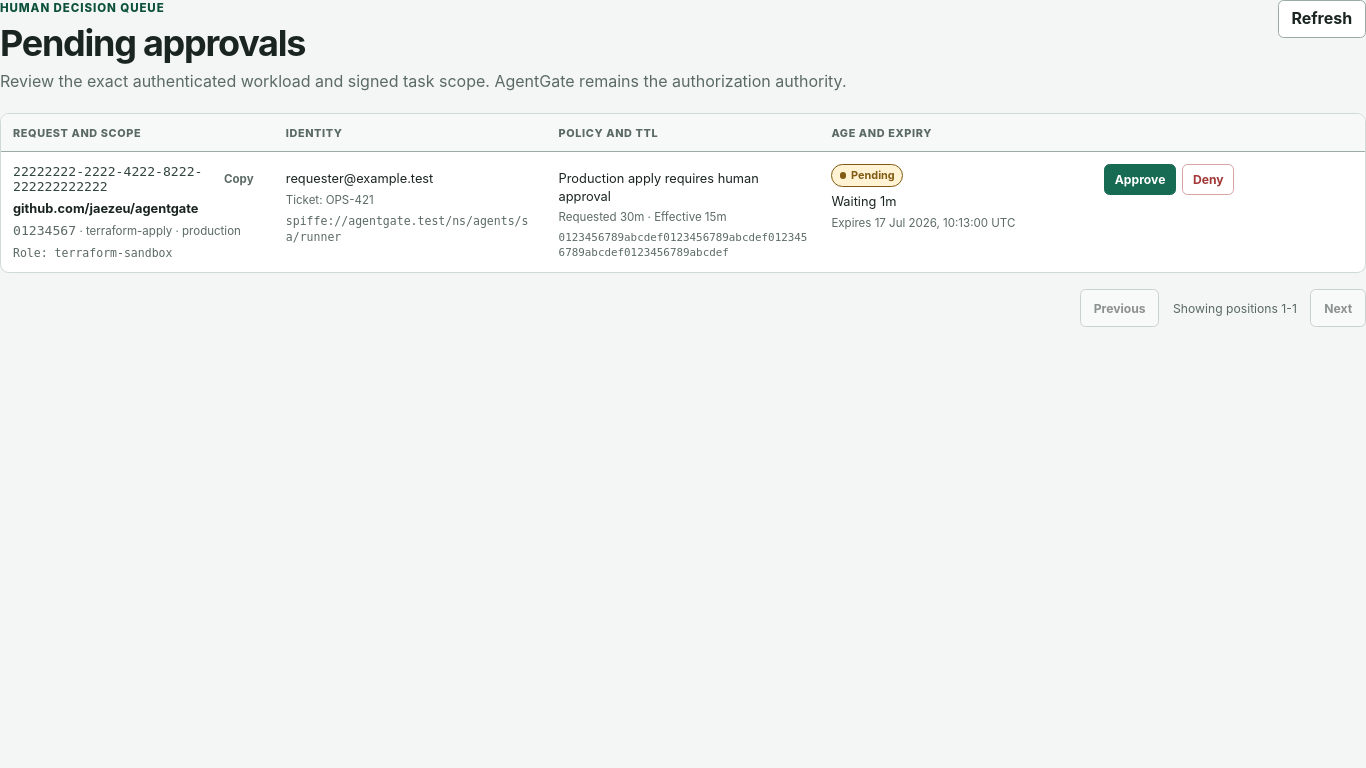
PendingApprovalsView › refreshes the winning stored state after a 409 decision race
Click the button "Approve". click: (1140, 180)
box: [1104,164,1176,195]
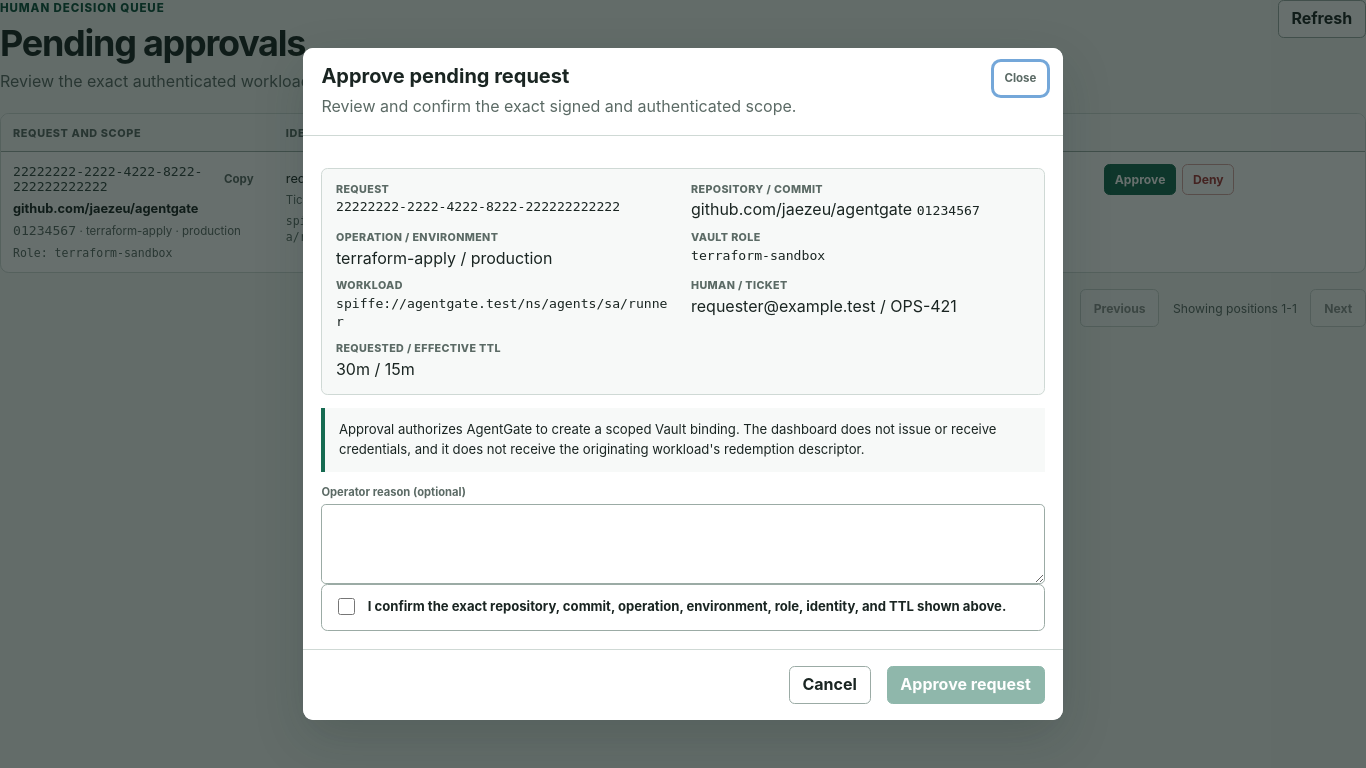
Click the checkbox labelled "I confirm the exact repository". click: (347, 607)
box: [338,598,355,615]
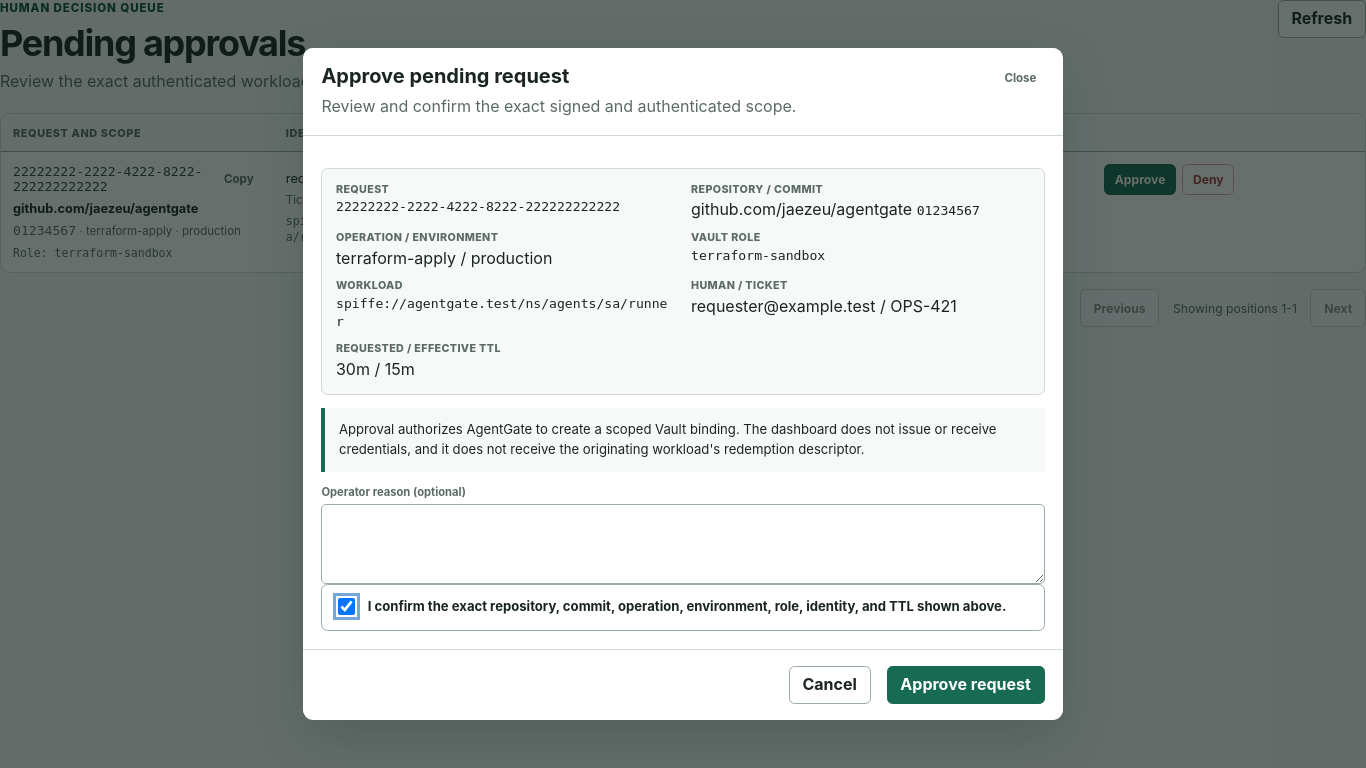
Click the button "Approve request". click: (966, 685)
box: [887,666,1045,704]
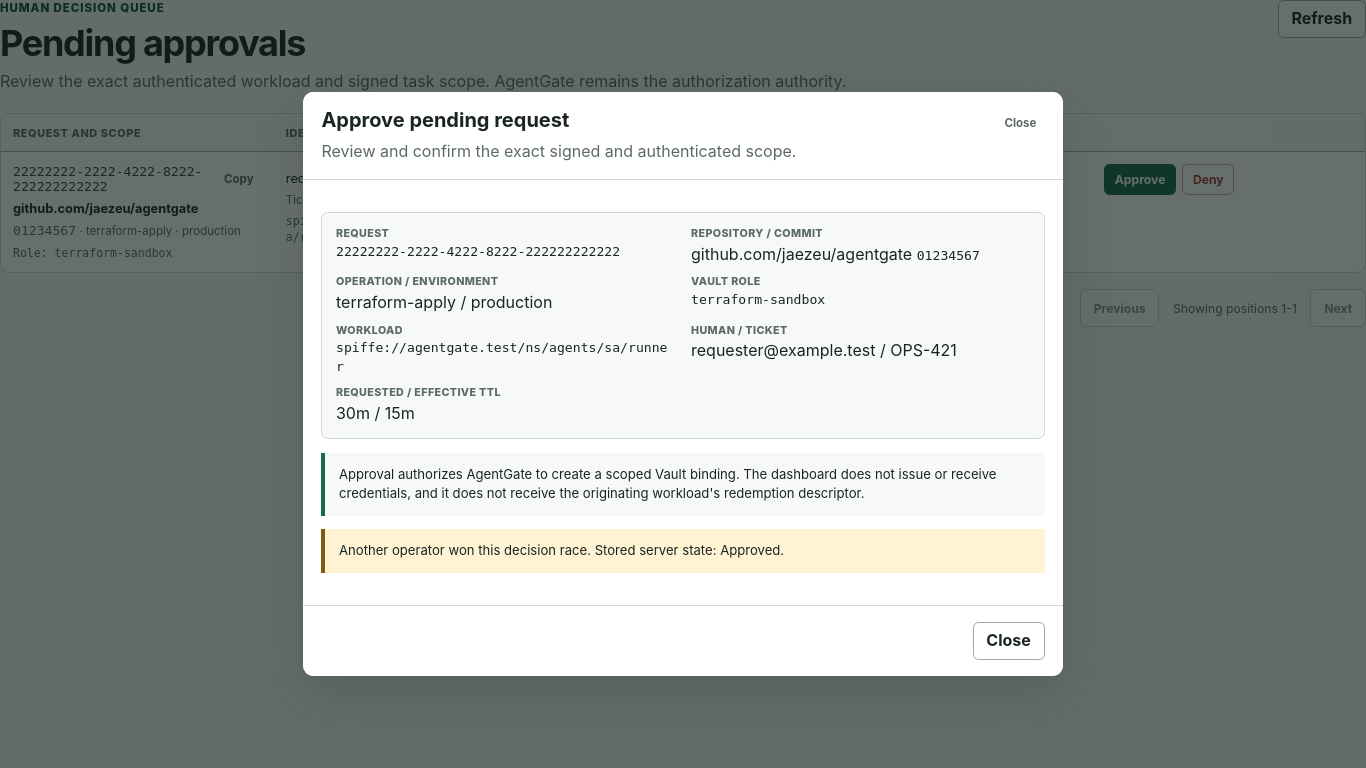
Check: the text "Another operator won this decision race. Stored server state: Approved." is shown, box [321,530,1045,573]
